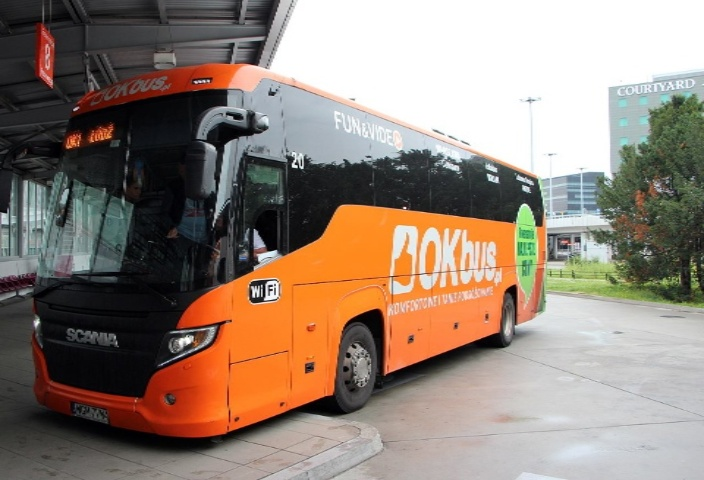bus: (36, 66, 549, 454)
